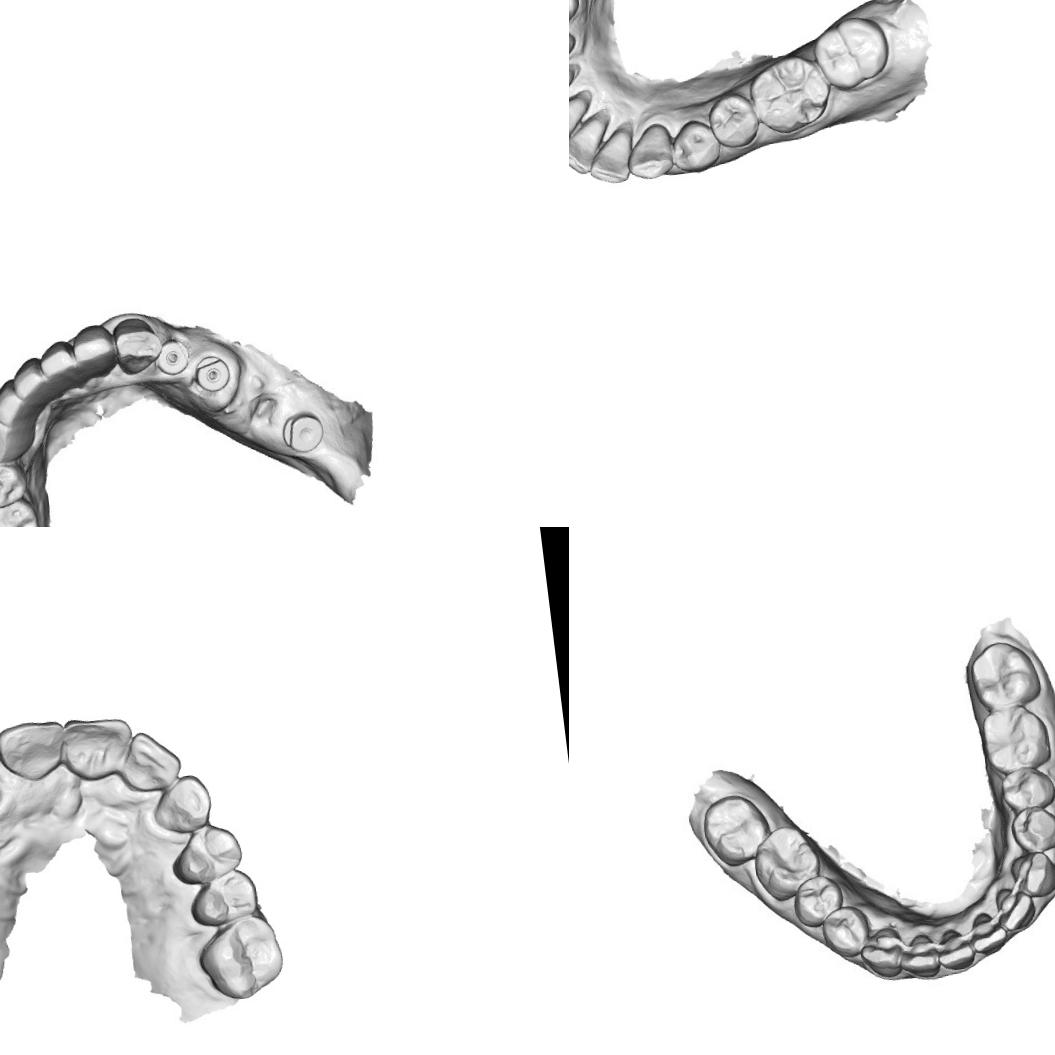canine: (147, 769, 221, 839), (111, 314, 164, 380), (621, 121, 677, 182), (1005, 847, 1055, 900), (859, 929, 908, 978), (0, 411, 38, 467)
implant: (276, 406, 326, 462), (193, 353, 240, 397), (151, 332, 175, 369)
incisor: (58, 710, 138, 786), (0, 716, 71, 786), (122, 726, 186, 796), (584, 124, 638, 186), (11, 354, 63, 413), (41, 342, 88, 394), (76, 326, 118, 378), (902, 936, 944, 983), (569, 122, 604, 177), (0, 380, 40, 425), (970, 914, 1011, 957), (995, 890, 1033, 929), (569, 94, 594, 151), (942, 930, 975, 966)
molar: (192, 911, 290, 1006), (743, 50, 837, 138), (810, 12, 893, 94), (752, 824, 823, 897), (970, 641, 1038, 708), (701, 792, 765, 860), (982, 706, 1051, 769)
premolar: (168, 820, 248, 888), (184, 867, 264, 930), (704, 88, 762, 151), (666, 116, 724, 176), (1002, 764, 1055, 815), (820, 904, 870, 957), (1014, 803, 1055, 852), (796, 882, 840, 921), (0, 456, 27, 506), (0, 497, 42, 527)
